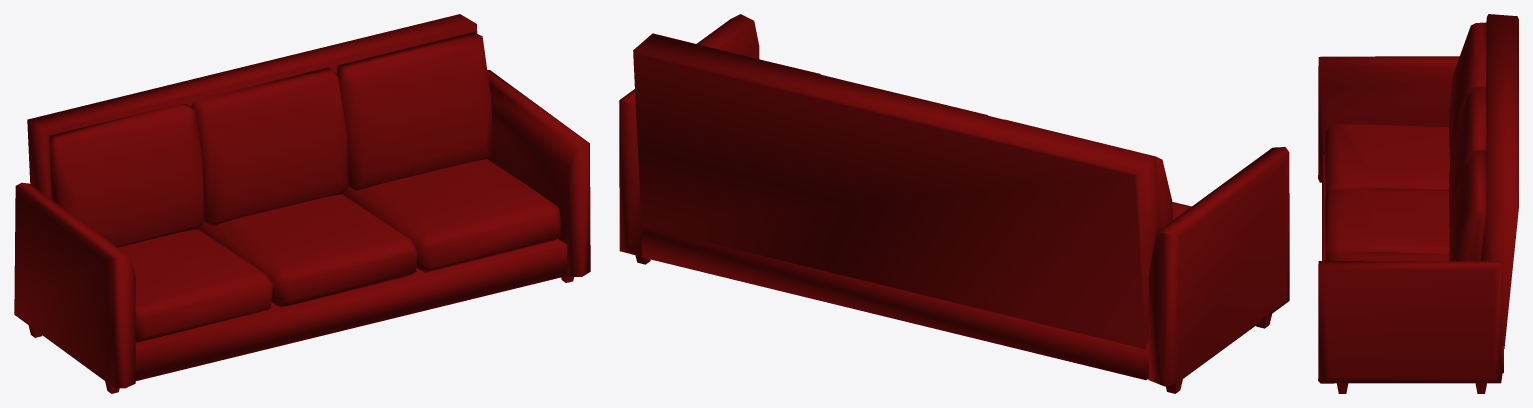
File: Couch.fbx
3 renders of one model, left to right at view 1: azimuth 30°, elevation 25°; view 2: azimuth 150°, elevation 25°; view 3: azimuth 270°, elevation 25°, orthographic. The views are drawn at different scales.
Visible parts, largest first — view 1: Couch; view 2: Couch; view 3: Couch.
Part boxes in pixels (x1,y1,x2,y2): Couch: (14,14,590,393); Couch: (619,14,1289,393); Couch: (1318,14,1518,393).
Bounding box in the file's own units: 170 × 67.87 × 67.74.
